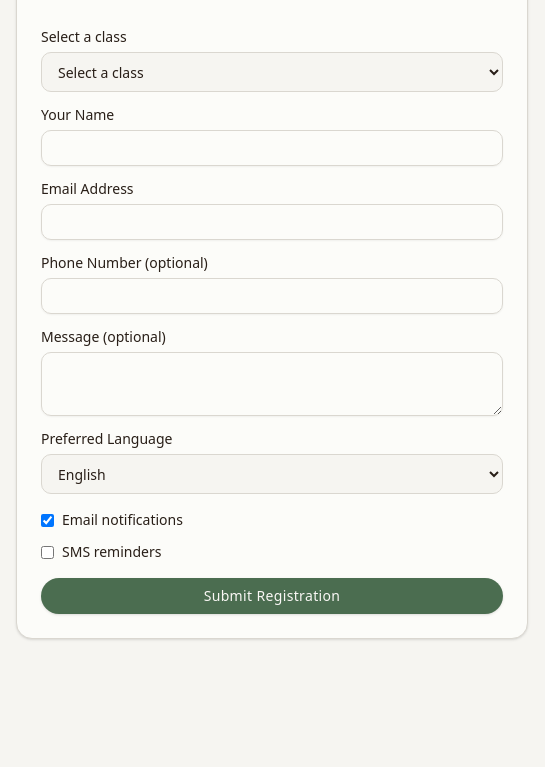
Scenario: RegistrationForm - Consent Flow › Consent Granted › should not show warning when consent already exists
Select "Morning Hatha - Free" in the dropdown labelled "Select a class" at [272, 72], box [41,52,503,92]
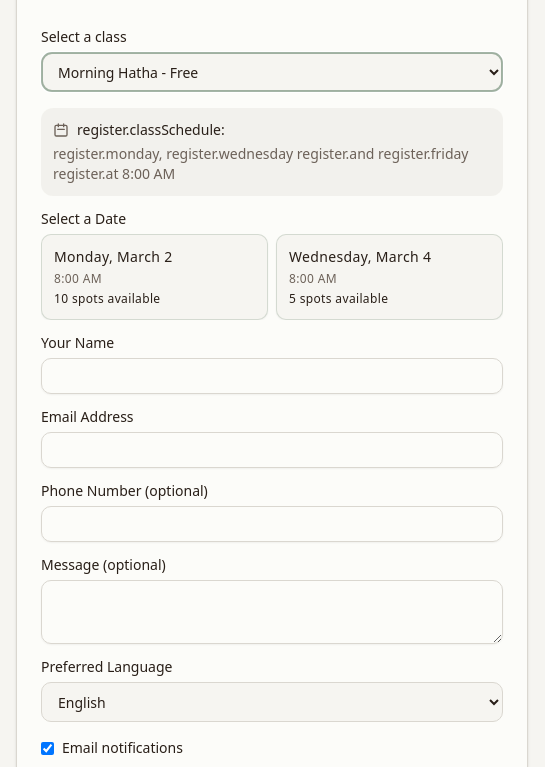
Type "john@example.com" into the field labelled "Email Address".
click(272, 450); type("john@example.com")  # box [41,432,503,468]
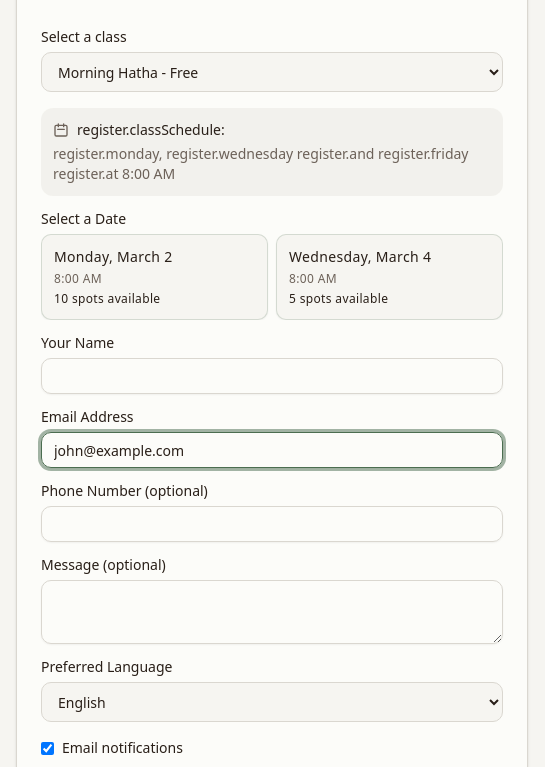
Click the text "Monday, March 2".
click(113, 257)  # box [54,247,173,267]
(page scrolled)
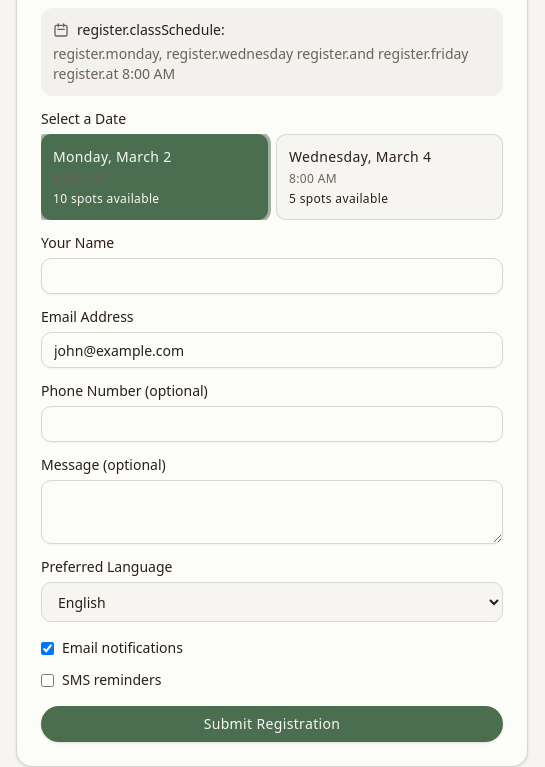
Expected: the button "Submit Registration" is enabled, [41,706,503,742]
